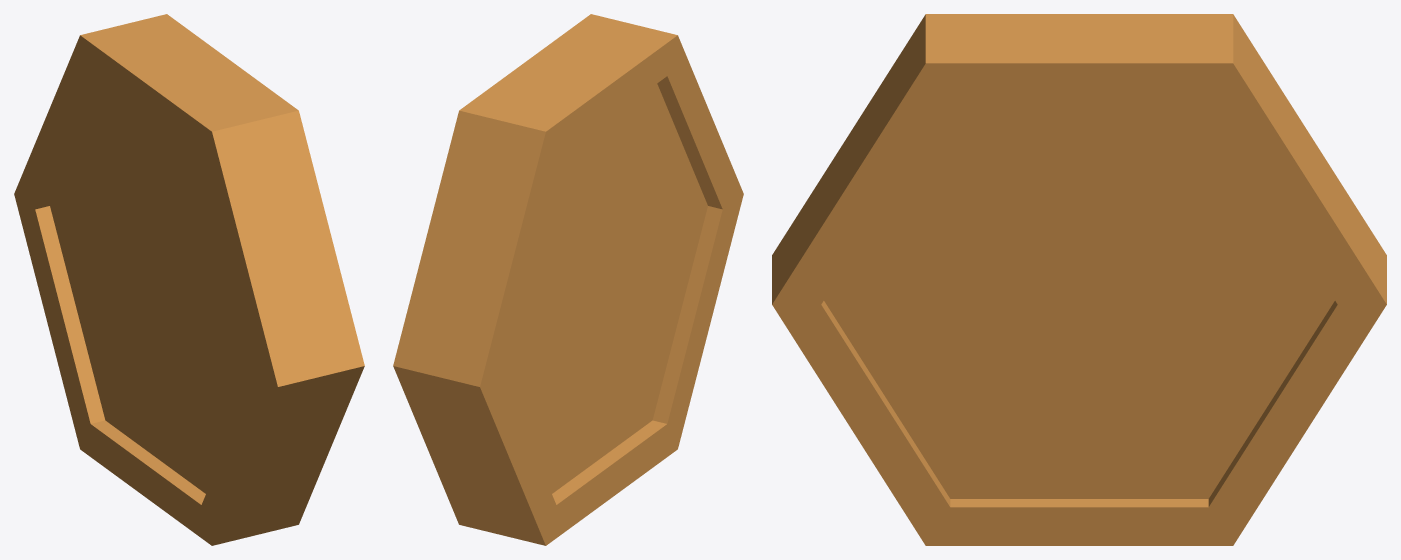
File: coin(copper).fbx
3 views of the same model, side by side, from view 1: azimuth 30°, elevation 25°; view 2: azimuth 150°, elevation 25°; view 3: azimuth 270°, elevation 25° (orthographic). The views are drawn at different scales.
Parts seen in each view (by area): view 1: Cylinder; view 2: Cylinder; view 3: Cylinder.
Part boxes in pixels (bbox=[...]): Cylinder: bbox=[14, 14, 364, 545]; Cylinder: bbox=[393, 14, 743, 545]; Cylinder: bbox=[772, 14, 1386, 545].
Size of the model in its own units: 3.33 by 15.15 by 17.5.
Materials: 1 (1 with a texture image).
